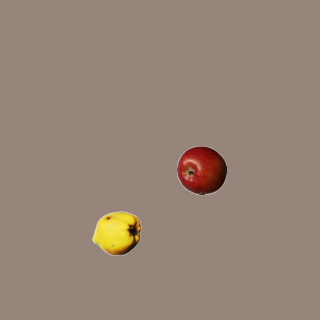Apple Braeburn: (176, 145, 226, 195)
Quince: (91, 208, 141, 258)
